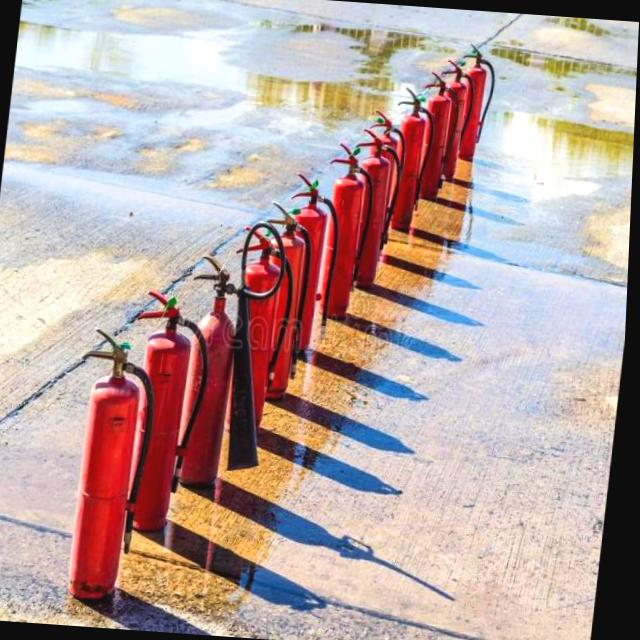FireExtinguisher: (163, 212, 292, 502), (56, 326, 168, 606), (113, 284, 219, 537), (214, 218, 307, 443), (242, 188, 323, 402), (269, 167, 347, 366), (309, 138, 380, 326), (339, 117, 408, 291), (352, 103, 417, 271), (378, 80, 443, 236), (423, 52, 479, 191), (411, 64, 456, 208), (450, 41, 500, 166)
